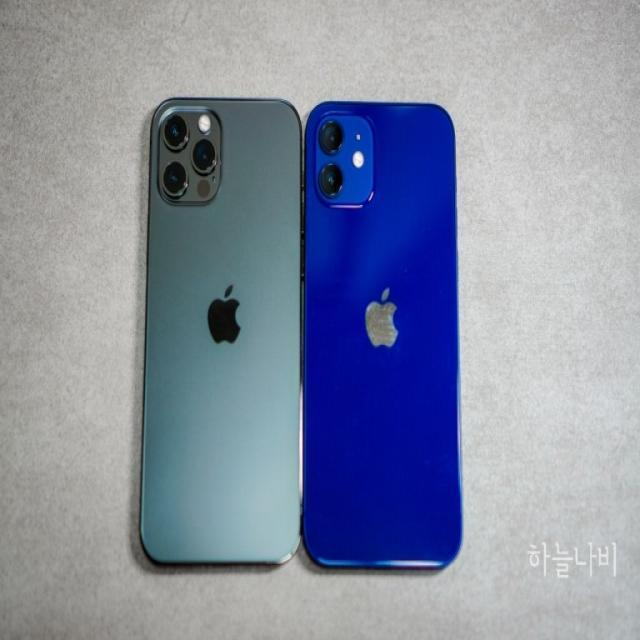phone: (140, 96, 302, 564), (304, 99, 463, 571)
